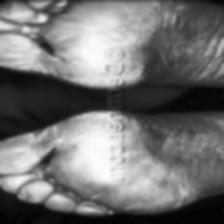Non-Cancerous Skin Condition: (120, 10, 173, 54), (58, 57, 104, 87), (20, 132, 66, 154), (72, 115, 108, 135)
